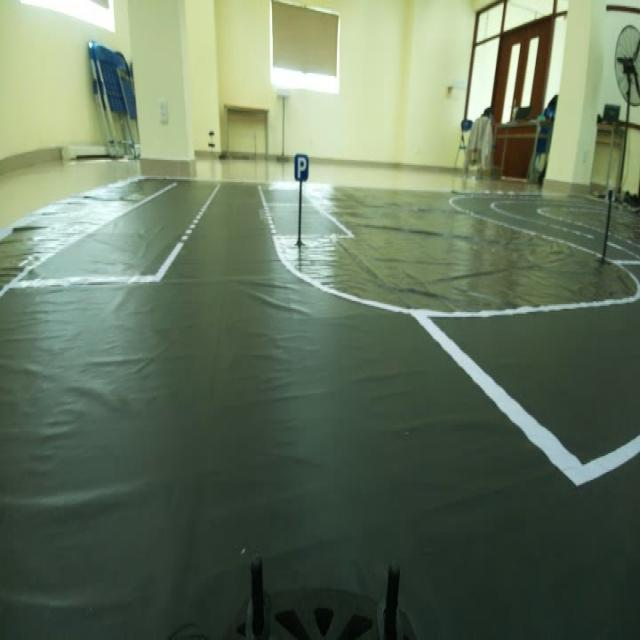parking: (293, 138, 313, 195)
